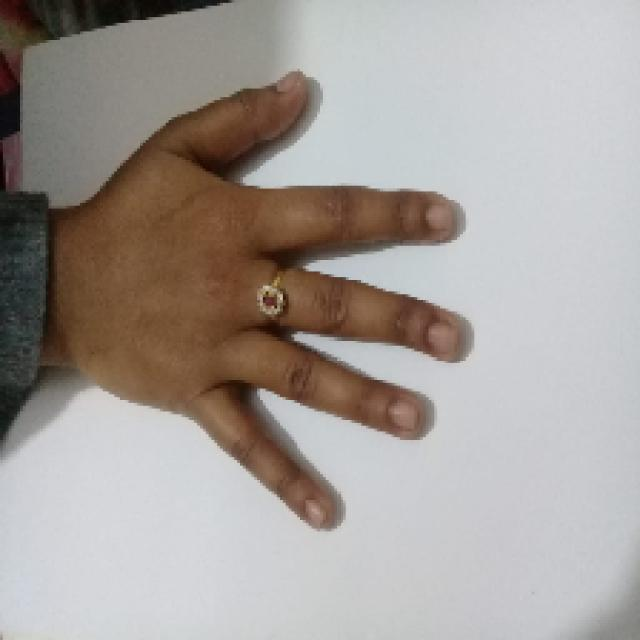Nail: (424, 200, 462, 234), (428, 321, 461, 358), (390, 400, 421, 432), (304, 499, 330, 528), (269, 71, 301, 92)
